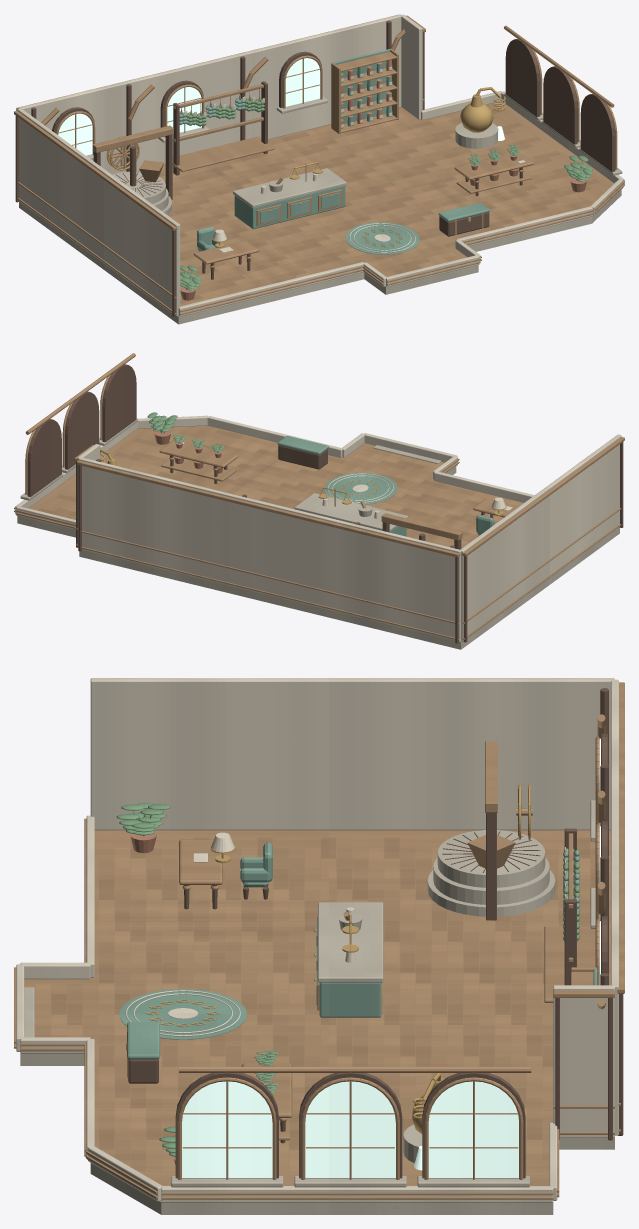
The model's file is watermill-interior.glb.
3 renders of one model, top to bottom at view 1: azimuth 30°, elevation 25°; view 2: azimuth 150°, elevation 25°; view 3: azimuth 270°, elevation 25°, orthographic. The views are drawn at different scales.
Visible parts, largest first — view 1: Forest hamlet; view 2: Forest hamlet; view 3: Forest hamlet.
Boxes of the visible parts, box(x1,y1,x2,y2) form: Forest hamlet: box(14, 14, 624, 324); Forest hamlet: box(14, 353, 624, 649); Forest hamlet: box(14, 678, 624, 1214).
Bounding box in the file's own units: 20.4 × 4.09 × 13.87.
15 materials, 15 textured.
